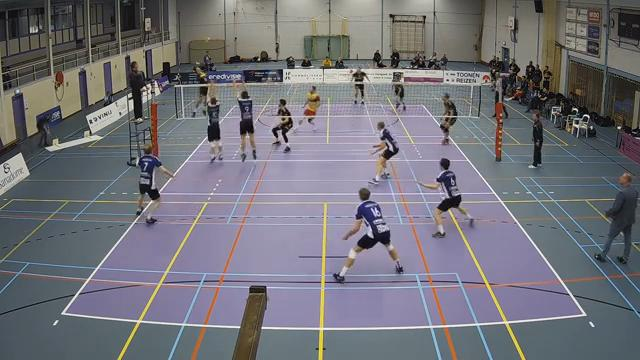Attack: (193, 63, 211, 118)
Block: (230, 72, 259, 163), (201, 77, 225, 168)
Player: (333, 188, 403, 282), (418, 158, 473, 237), (136, 144, 173, 223), (369, 121, 398, 184), (294, 86, 319, 131), (272, 99, 292, 152), (440, 93, 457, 144), (352, 67, 368, 103), (393, 80, 405, 109)
ball: (203, 35, 211, 44)
